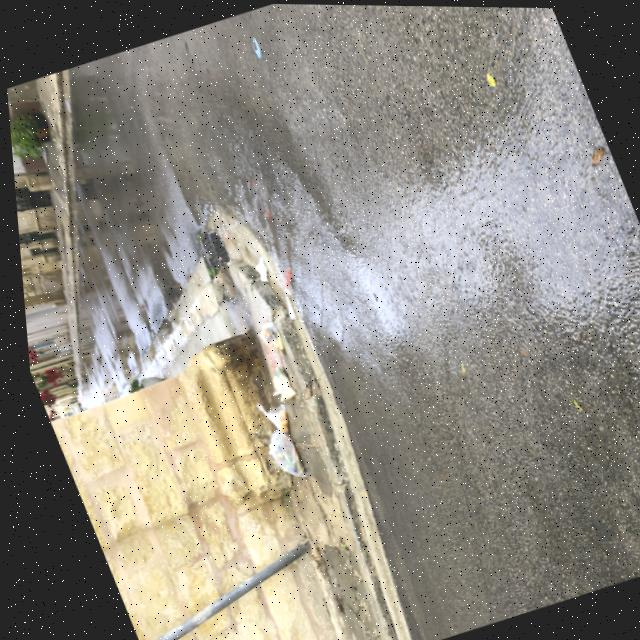Organic Waste -White Bag-: (251, 421, 306, 490), (247, 393, 290, 439), (249, 318, 285, 361), (261, 363, 293, 403)
Other: (581, 143, 610, 169), (245, 254, 269, 284), (274, 291, 297, 322), (247, 32, 268, 61), (59, 95, 75, 116), (482, 70, 499, 89)
